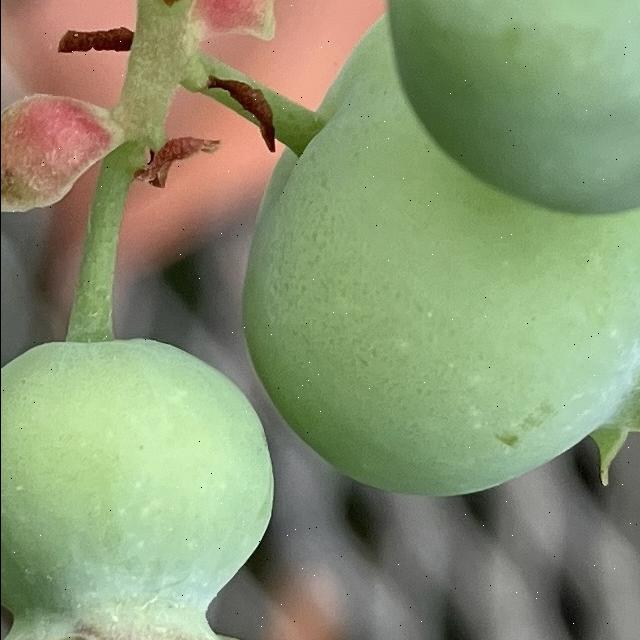Blueberries: (0, 332, 297, 640), (386, 0, 640, 214)
